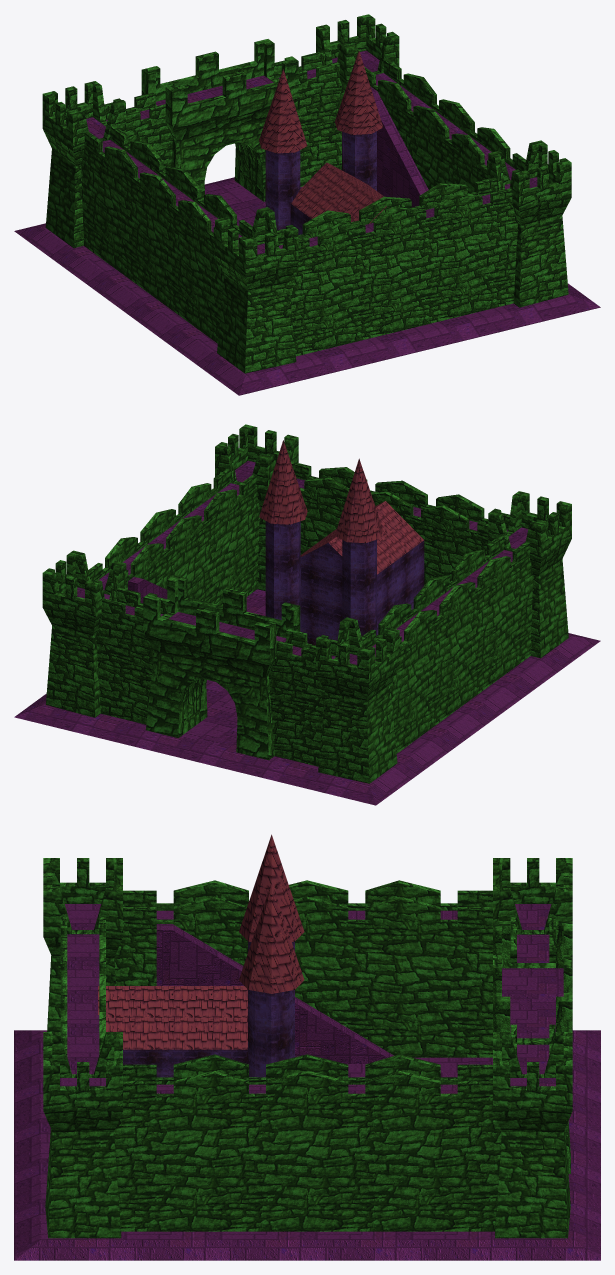
Rendered from castle.glb.
3 views of the same model, one above another, from view 1: azimuth 30°, elevation 25°; view 2: azimuth 150°, elevation 25°; view 3: azimuth 270°, elevation 25° (orthographic). The views are drawn at different scales.
Visible parts, largest first — view 1: Box23, Box26, Box03, Cylinder01, Box27, Box21, Box22, Box25, Box24, walkway, Box09, Box28 (+6 smaller); view 2: Box26, Box03, Cylinder01, Box21, Box25, Box23, Box09, Box27, Box24, Box02, Box08, Box22 (+7 smaller); view 3: Box21, Box26, Box03, Box09, Box22, walkway, roof, Box01, Box27, Box25, Cylinder01, Cone02 (+4 smaller).
Boxes of the visible parts, x1,y1,x2,y2 form: Box23: (277, 177, 518, 356); Box26: (81, 125, 252, 343); Box03: (14, 177, 600, 395); Cylinder01: (141, 39, 298, 201); Box27: (215, 207, 298, 373); Box21: (364, 59, 525, 193); Box22: (488, 140, 571, 307); Box25: (42, 81, 125, 247); Box24: (271, 51, 344, 186); walkway: (66, 50, 537, 254); Box09: (316, 14, 399, 169); Box28: (371, 87, 428, 207); Box26: (361, 535, 533, 753); Box03: (14, 589, 600, 805); Cylinder01: (143, 575, 300, 760); Box21: (88, 469, 259, 605); Box25: (316, 617, 399, 783); Box23: (291, 461, 509, 584); Box09: (42, 550, 126, 717); Box27: (488, 491, 571, 658); Box24: (96, 587, 170, 724); Box02: (300, 540, 424, 645); Box08: (268, 629, 337, 766); Box22: (215, 424, 298, 591); Box21: (114, 1054, 501, 1231); Box26: (114, 880, 492, 1057); Box03: (14, 1030, 600, 1260); Box09: (493, 1032, 572, 1238); Box22: (43, 1032, 122, 1238); walkway: (60, 904, 563, 1093); roof: (98, 986, 247, 1049); Box01: (156, 924, 393, 1063); Box27: (43, 858, 122, 1032); Box25: (493, 858, 572, 962); Cylinder01: (493, 921, 572, 1173); Cone02: (239, 883, 304, 993).
Size of the model in its own units: 959 by 557 by 1032.
4 materials, 4 textured.
